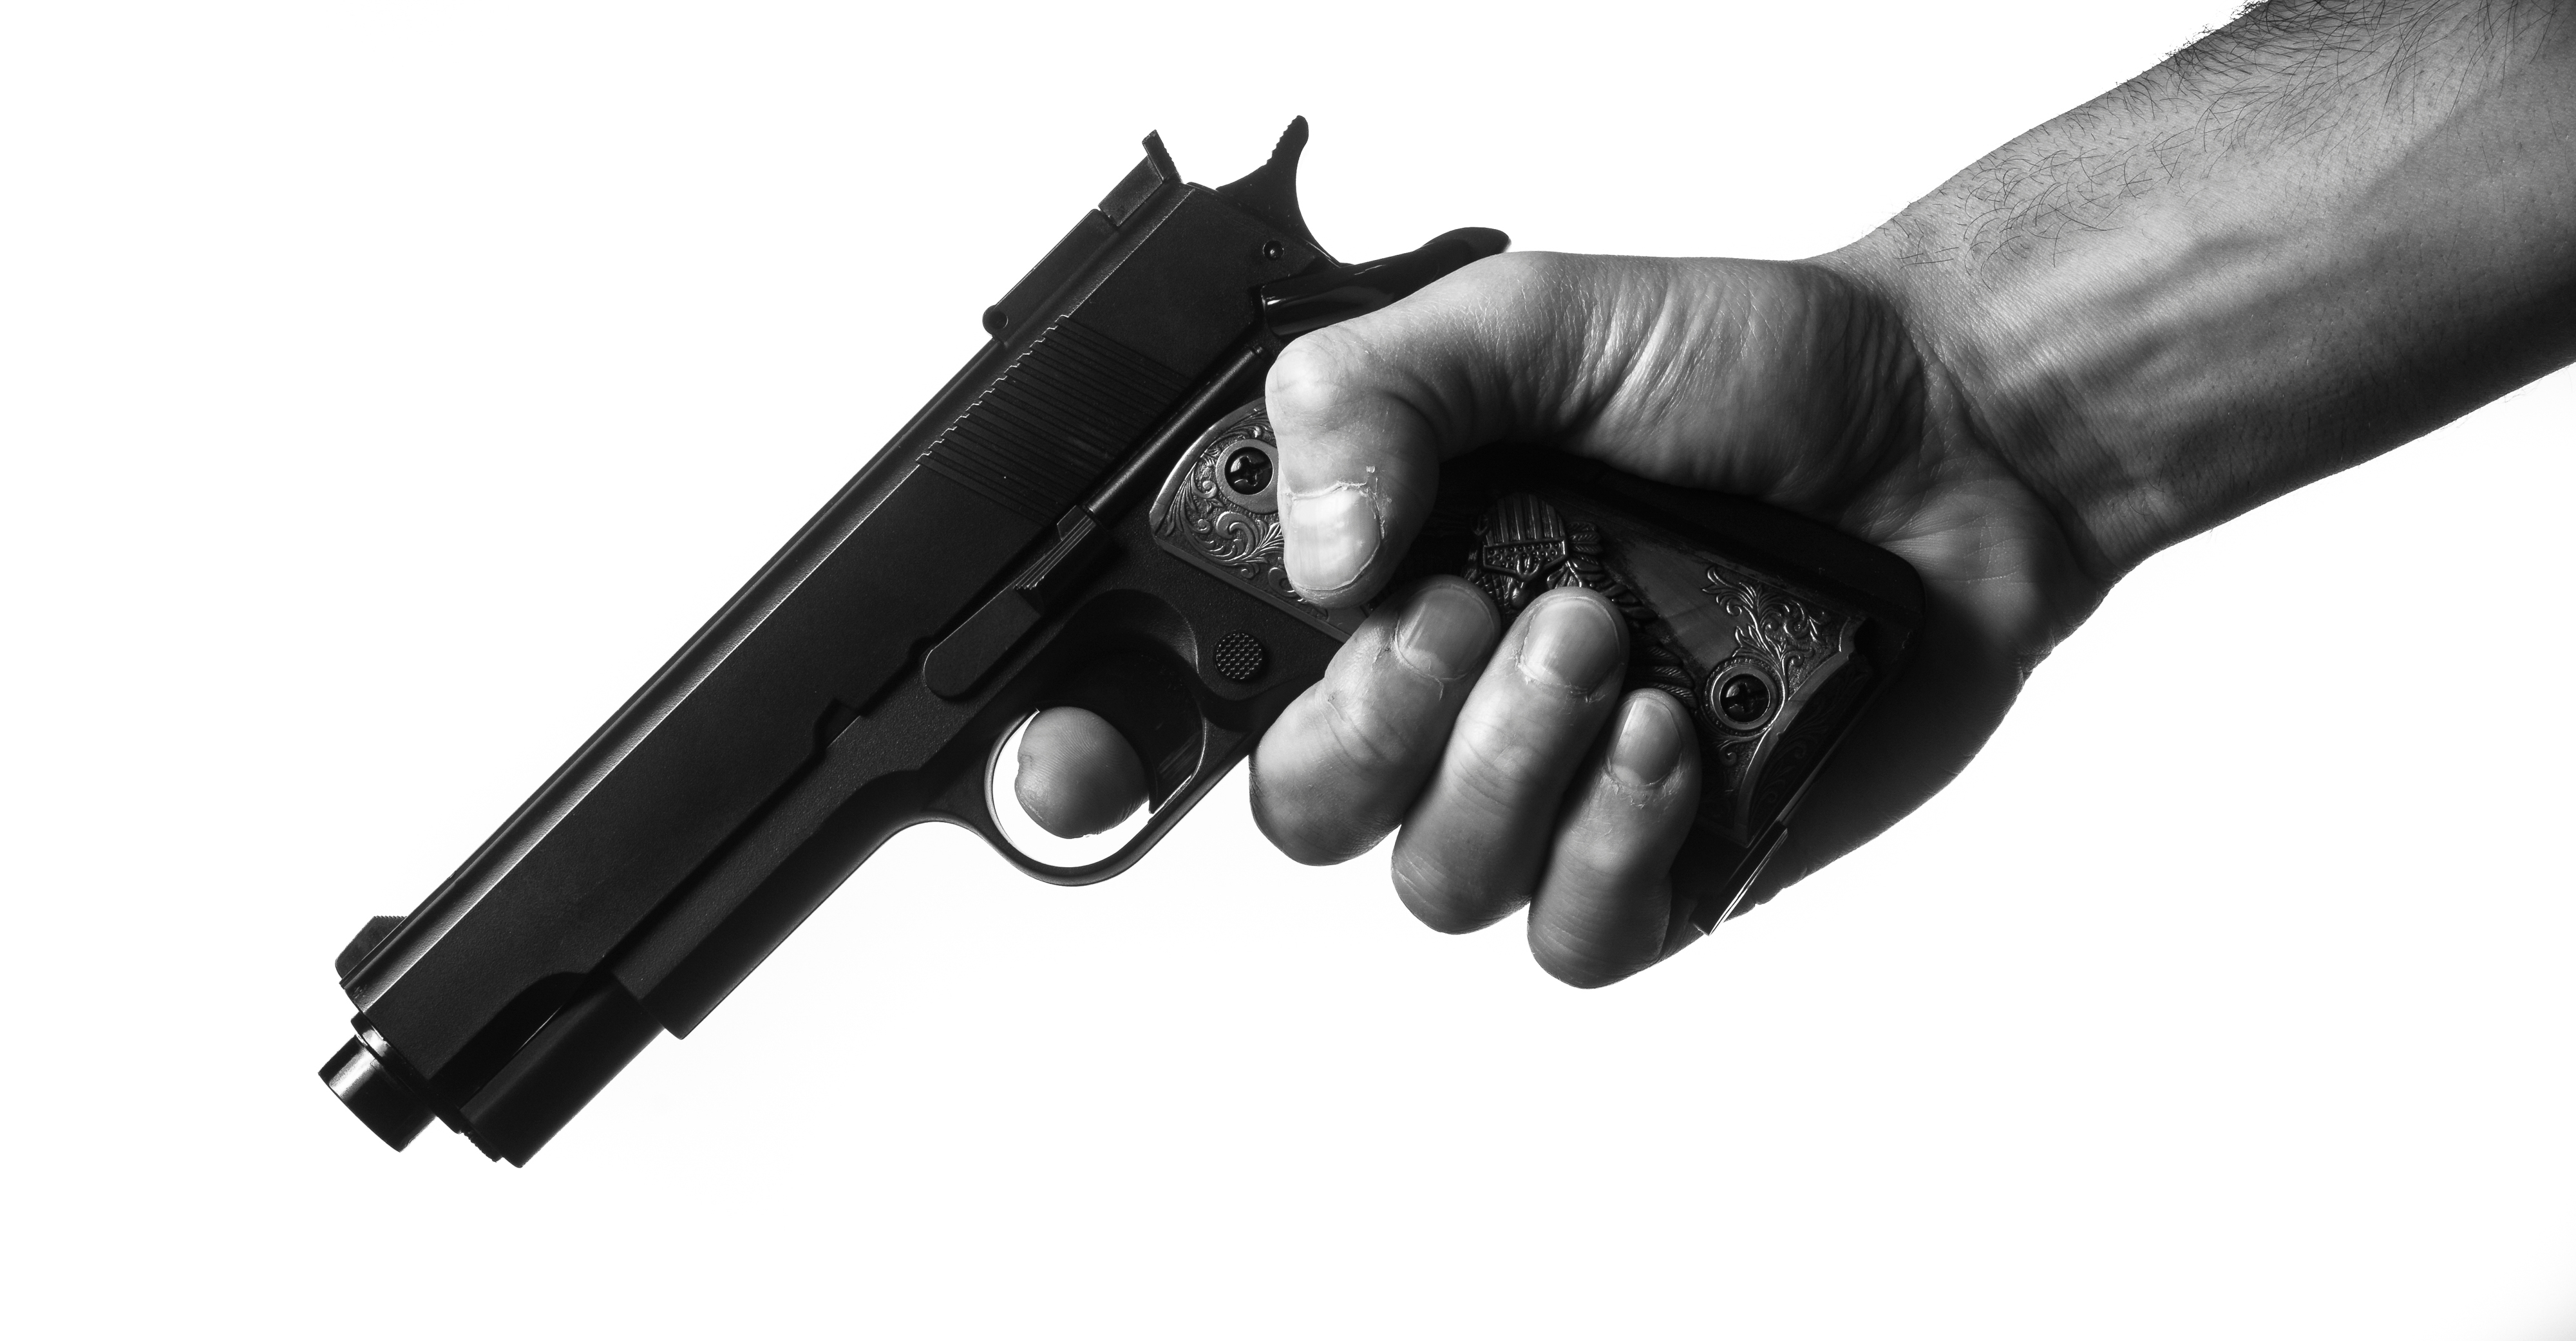pistol: (305, 107, 1828, 1258)
